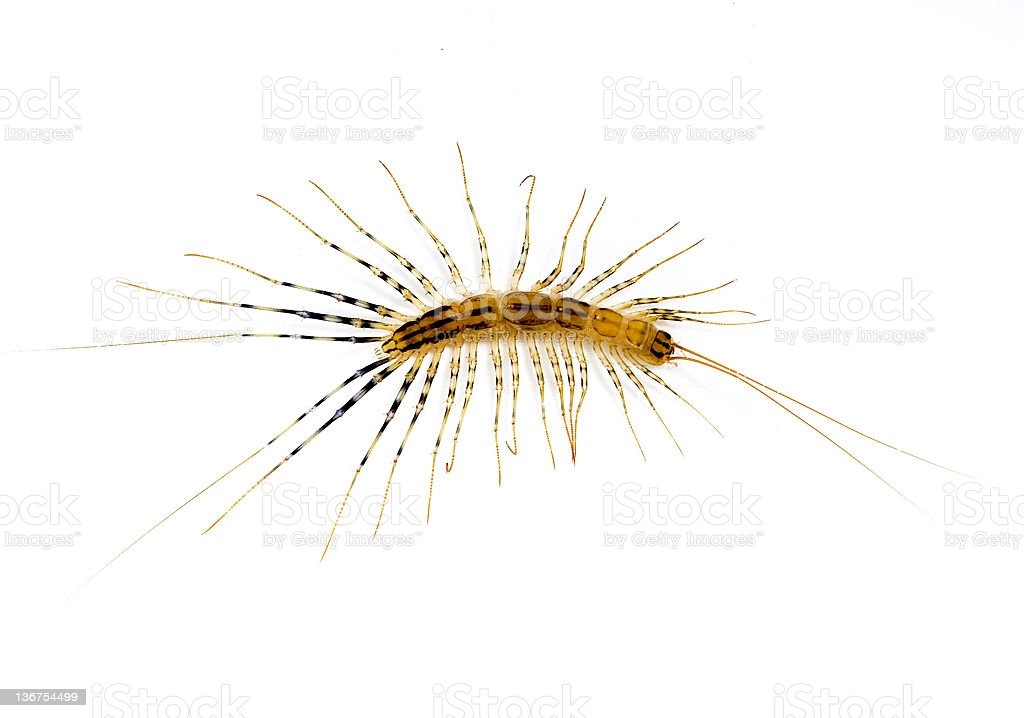centipede: (114, 142, 901, 530)
